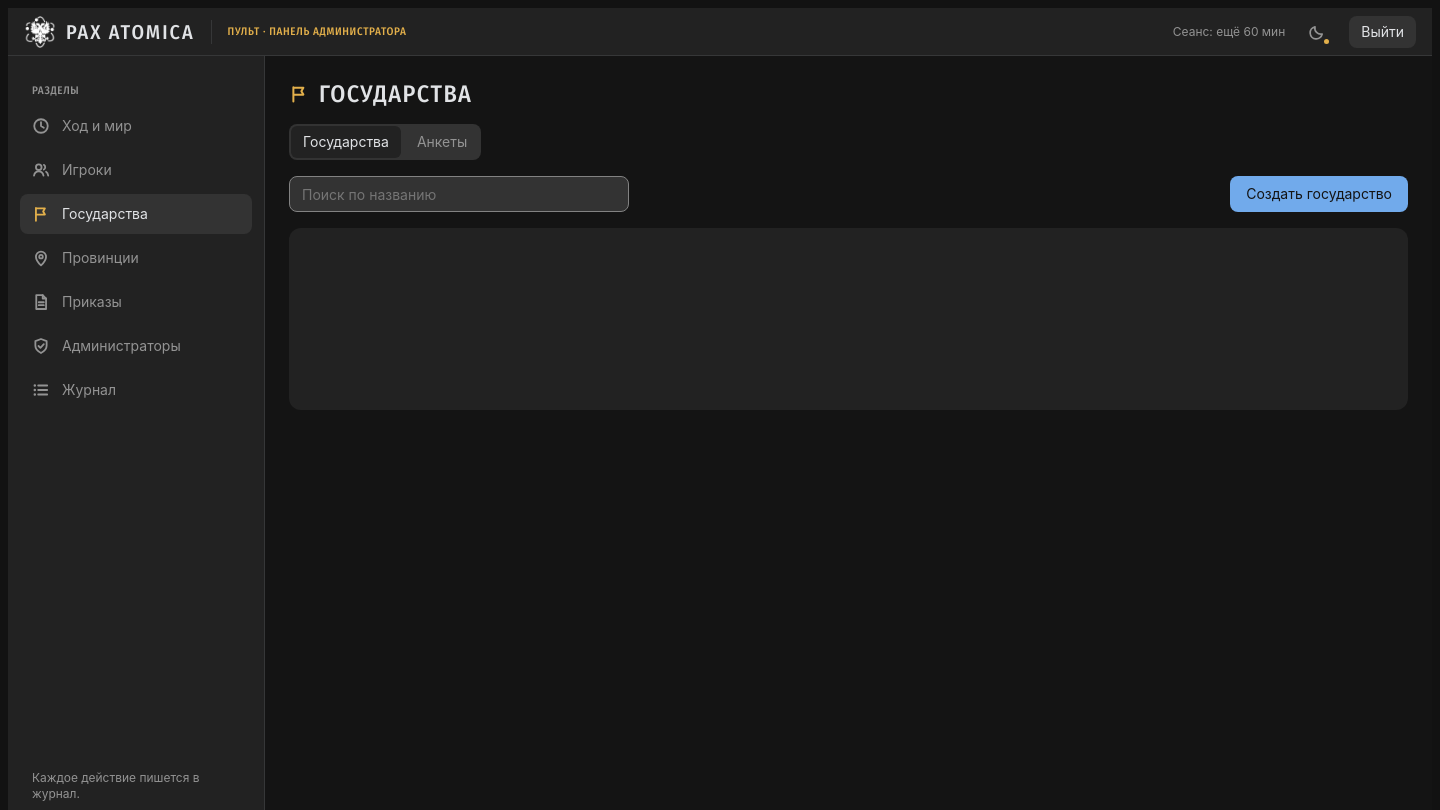
Scenario: both views wrap the switcher in a content-width div; the «Анкеты» breadcrumb is gone (13a)
The image size is (1440, 810).
Check: the element with test id "nations-apps-switch" has style "display: flex", box left=289, top=124, right=481, bottom=160
Check: the button with test id "tab-nations" is shown, box left=291, top=126, right=401, bottom=158
Step 1. Click the button with test id "tab-applications" → click(442, 142), box left=405, top=126, right=479, bottom=158
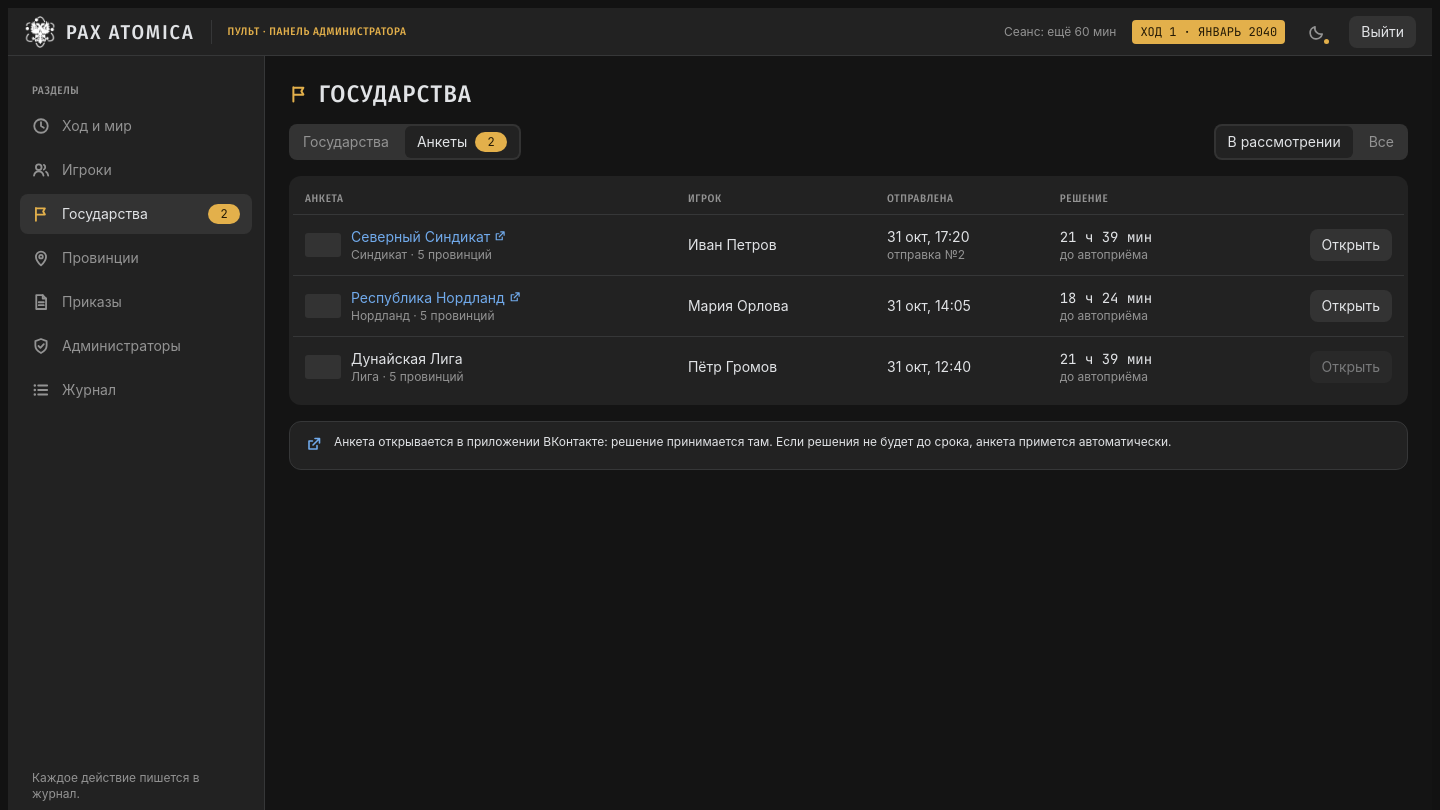
Check: the button with test id "tab-applications" is shown, box left=405, top=126, right=519, bottom=158
Check: the table with test id "applications-table" is shown, box left=293, top=184, right=1404, bottom=397
